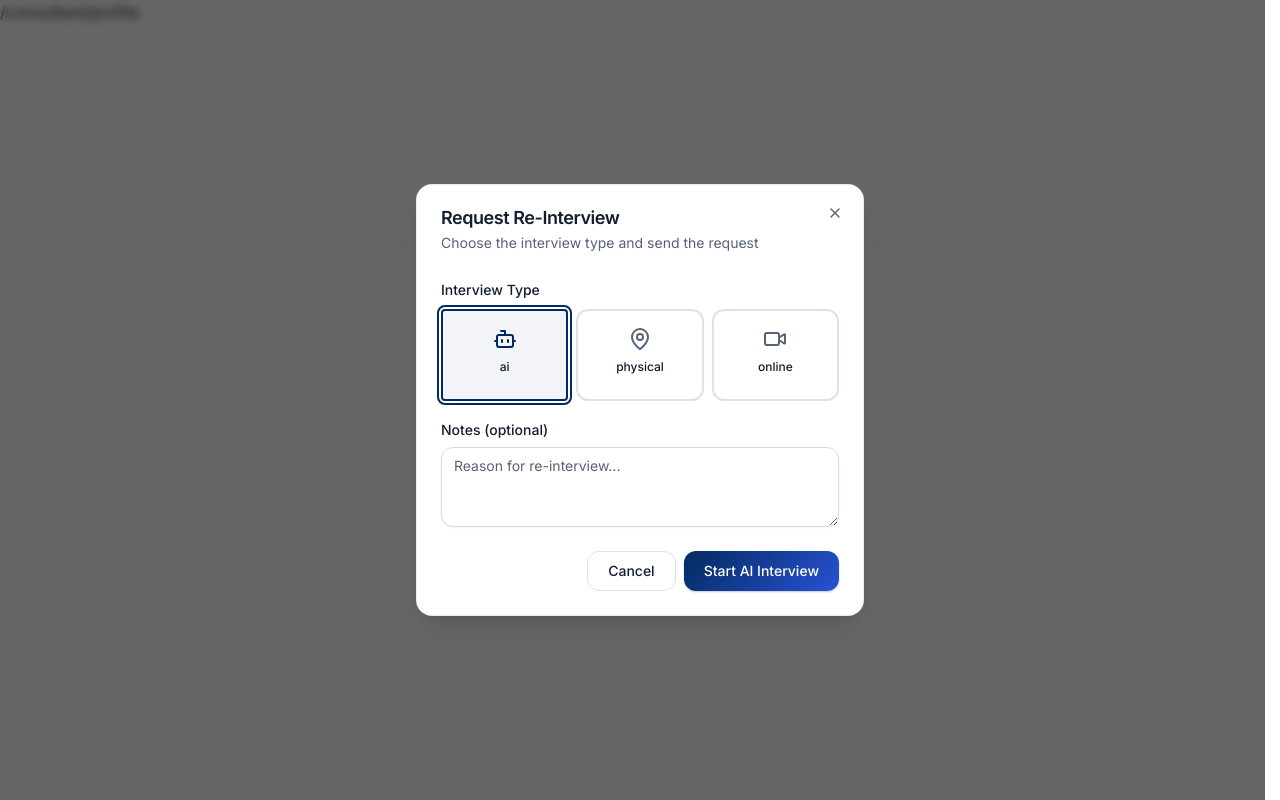
Test: ReinterviewDialog start sequence › consultant + AI: navigates to the interview start and creates no request row
The image size is (1280, 800).
Click the button "Start AI Interview" at point(761, 571), box top-left (684, 551), bottom-right (839, 591)
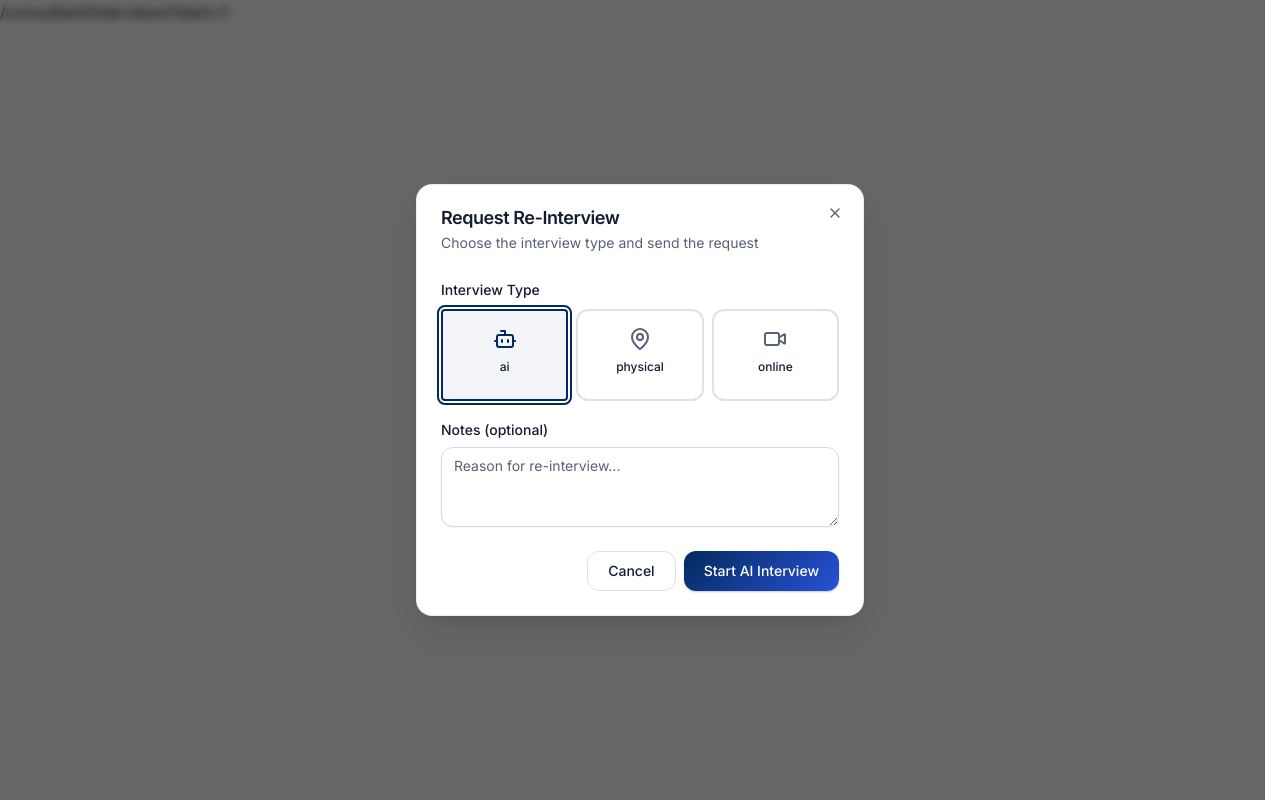
Check: the text with test id "where" reads "/consultant/interviews?start=1", box top-left (0, 2), bottom-right (228, 22)
